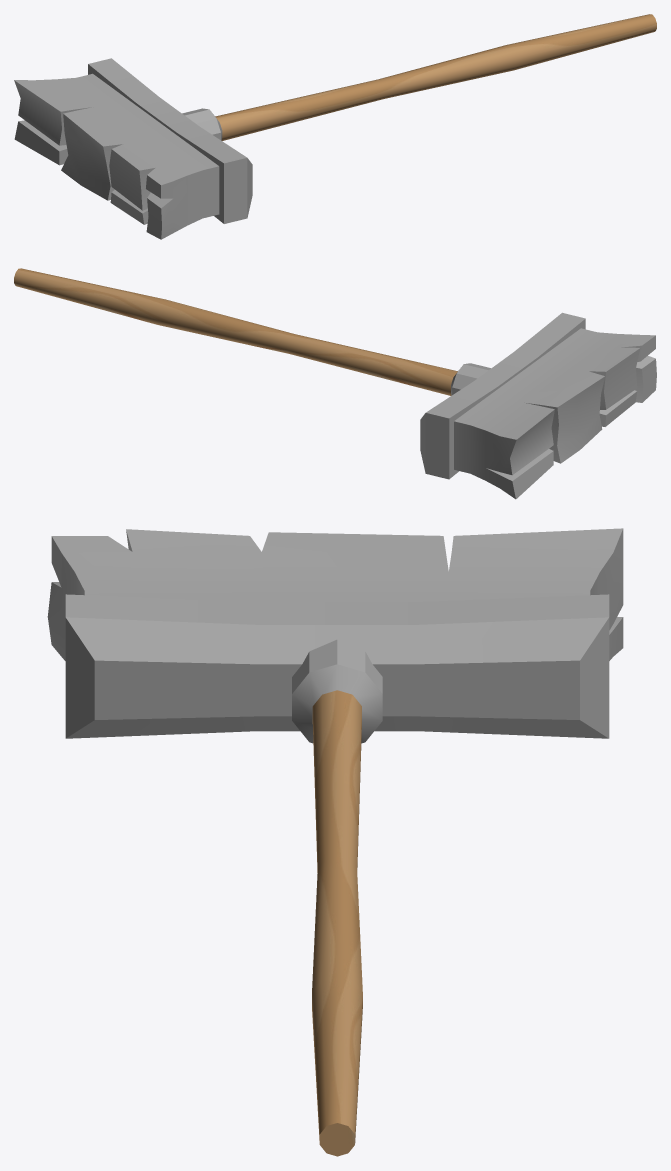
Rendered from broom.fbx.
3 views of the same model, one above another, from view 1: azimuth 30°, elevation 25°; view 2: azimuth 150°, elevation 25°; view 3: azimuth 270°, elevation 25° (orthographic). The views are drawn at different scales.
Parts seen in each view (by area): view 1: broom; view 2: broom; view 3: broom.
Boxes of the visible parts, bbox=[...] form: broom: bbox=[14, 14, 656, 239]; broom: bbox=[14, 268, 656, 499]; broom: bbox=[47, 528, 623, 1156].
Size of the model in its own units: 1.9 by 0.1955 by 0.8355.
